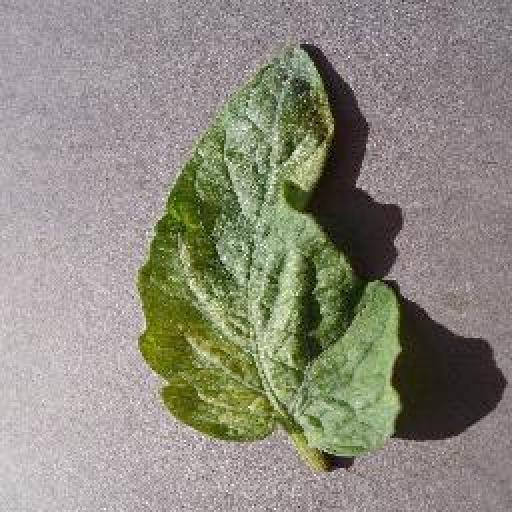disease_tomato: (138, 47, 400, 453)
